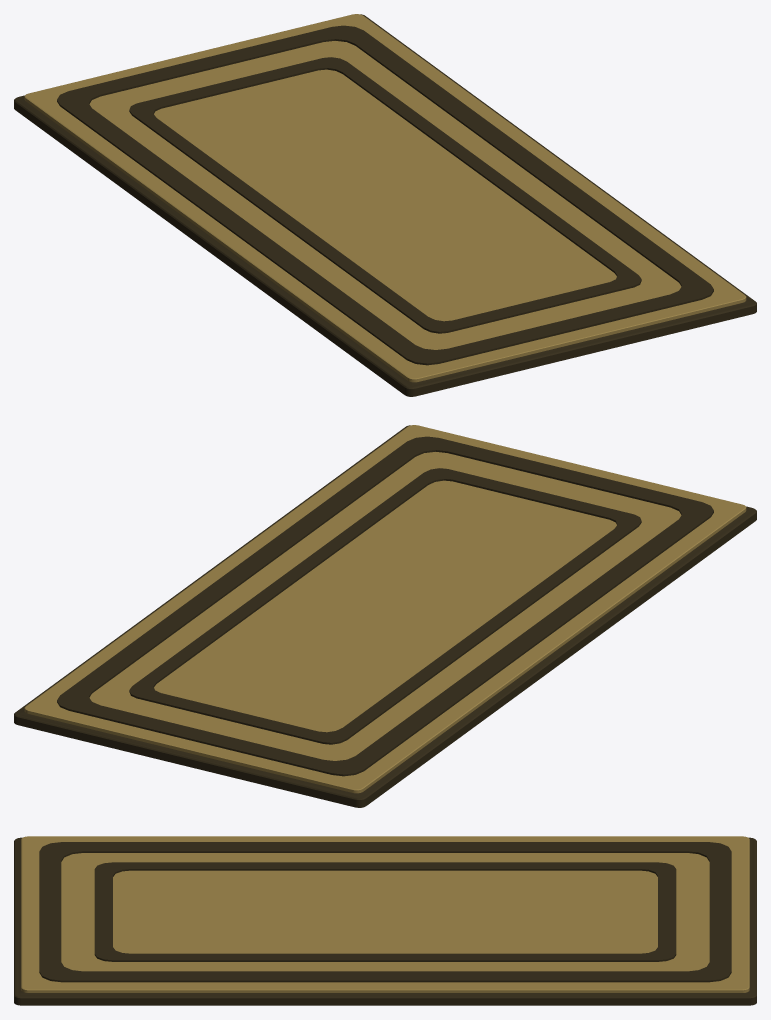
File: lvl0_WelcomeMat.fbx
3 renders of one model, top to bottom at view 1: azimuth 30°, elevation 25°; view 2: azimuth 150°, elevation 25°; view 3: azimuth 270°, elevation 25°, orthographic. The views are drawn at different scales.
Parts seen in each view (by area): view 1: polySurface5; view 2: polySurface5; view 3: polySurface5.
Part boxes in pixels (bbox=[...]): polySurface5: bbox=[14, 14, 756, 396]; polySurface5: bbox=[14, 425, 756, 807]; polySurface5: bbox=[14, 836, 756, 1005].
Size of the model in its own units: 20.8 by 0.8625 by 40.8.
